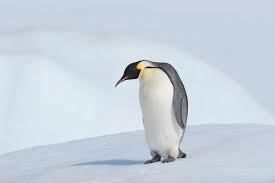emporer: (107, 53, 208, 170)
